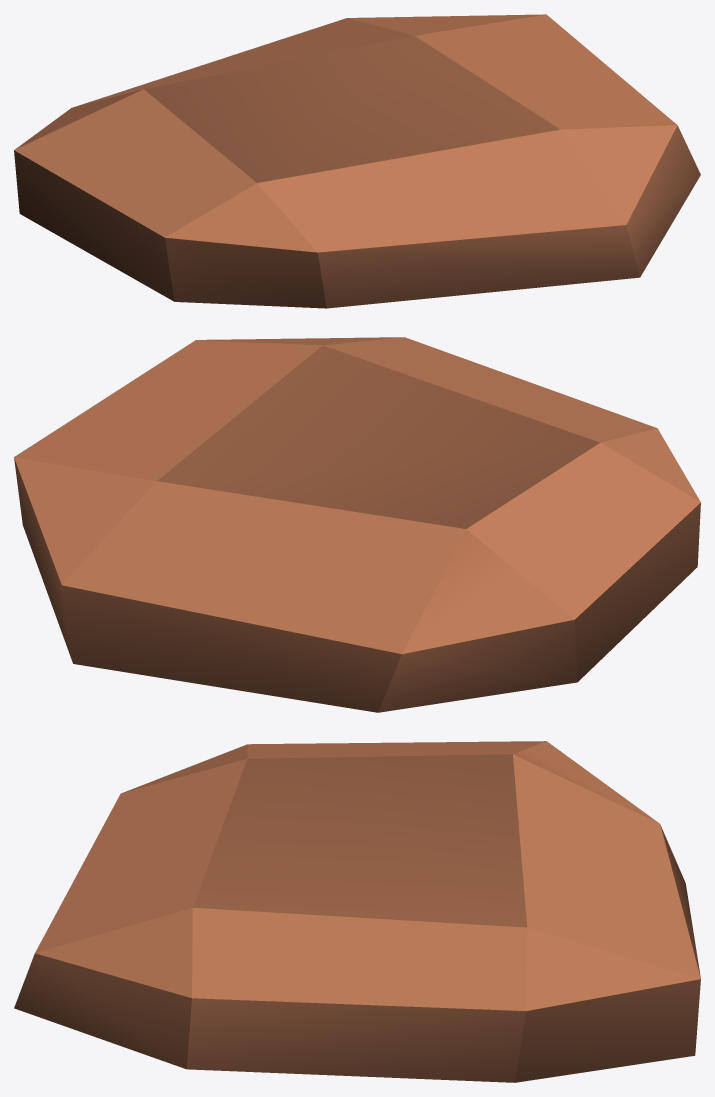
Rendered from Rock 3.glb.
The picture shows the model from 3 angles, top to bottom: view 1: azimuth 30°, elevation 25°; view 2: azimuth 150°, elevation 25°; view 3: azimuth 270°, elevation 25°; orthographic projection. The views are drawn at different scales.
Parts seen in each view (by area): view 1: Rock 3; view 2: Rock 3; view 3: Rock 3.
Boxes of the visible parts, x1=… form: Rock 3: x1=14, y1=14, x2=700, y2=308; Rock 3: x1=14, y1=337, x2=700, y2=712; Rock 3: x1=14, y1=741, x2=700, y2=1082.
Bounding box in the file's own units: 1.07 × 0.2573 × 1.08.
1 material, 1 textured.
